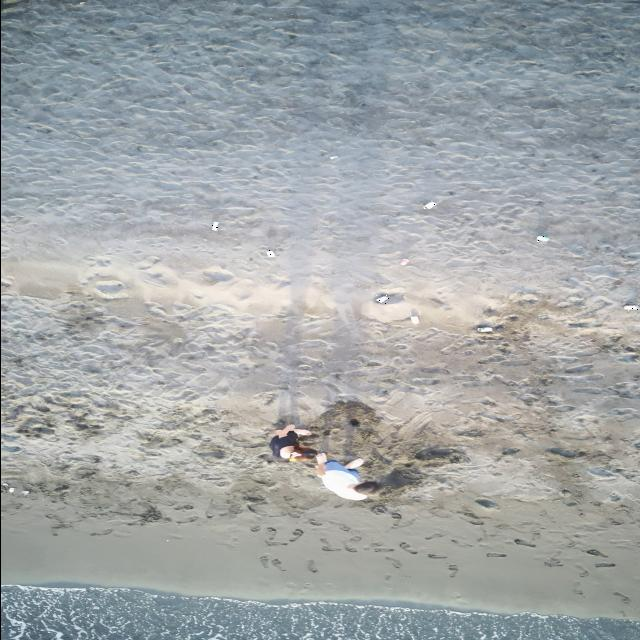Garbage: (373, 292, 403, 303), (409, 310, 419, 324), (375, 293, 388, 303), (624, 304, 639, 310), (423, 200, 435, 207), (476, 326, 492, 331), (536, 235, 548, 241), (267, 248, 275, 256), (211, 221, 218, 230), (400, 258, 408, 264), (328, 155, 337, 160), (22, 489, 28, 495), (2, 482, 8, 487), (8, 487, 13, 492), (164, 539, 168, 542)
